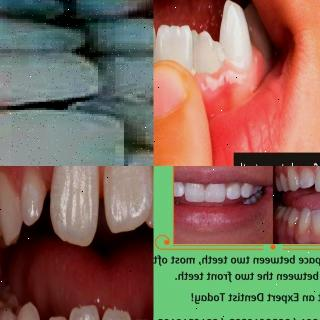maligned: (102, 166, 154, 246), (218, 0, 258, 78), (190, 15, 232, 75), (17, 166, 41, 228), (144, 178, 154, 224)
